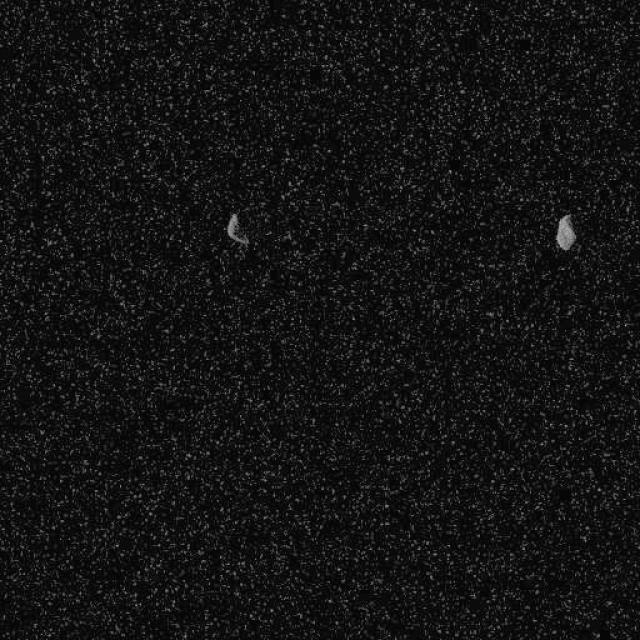D2: (555, 212, 576, 252), (225, 212, 249, 246)
